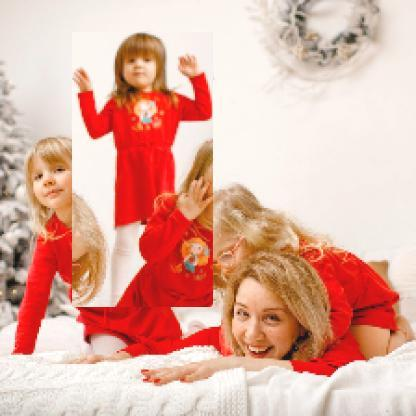child: (179, 183, 415, 363), (73, 33, 215, 309), (13, 136, 184, 357)
